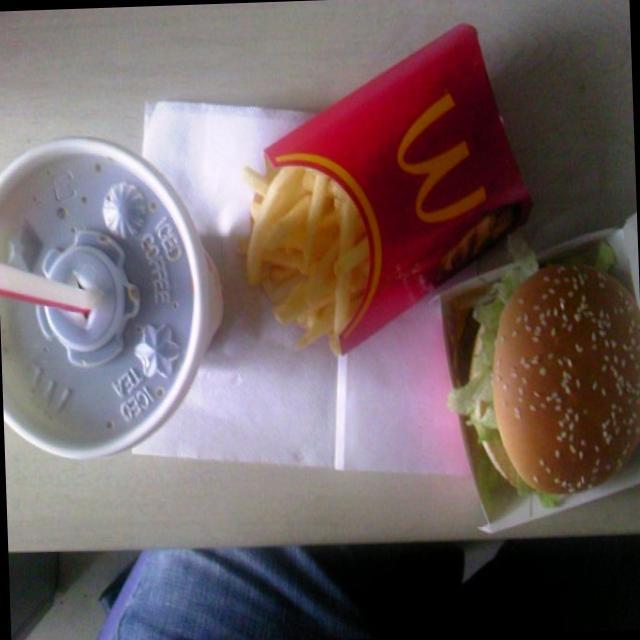Hamburger: (435, 249, 640, 516)
